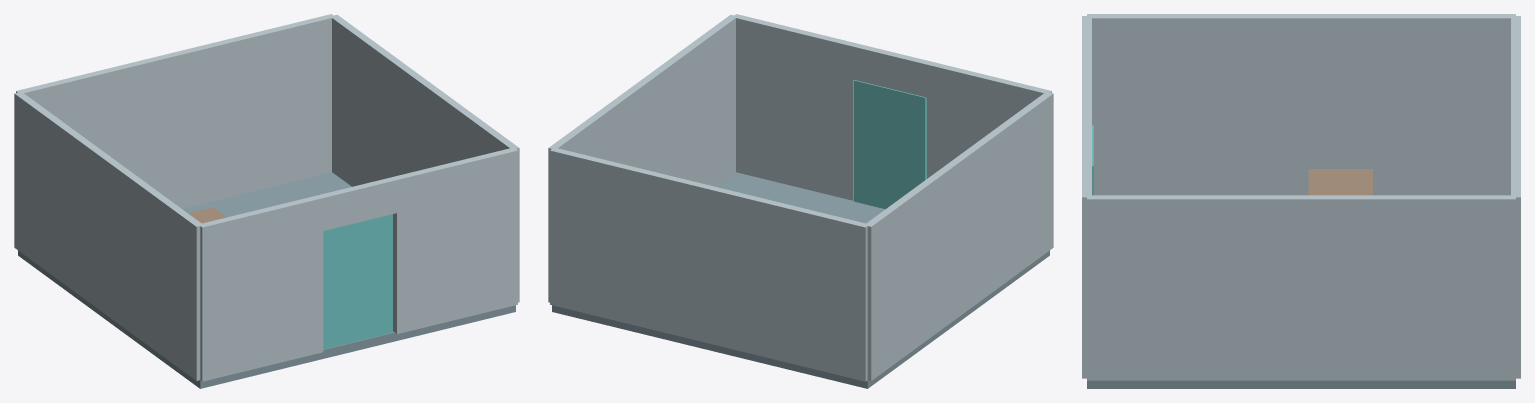
The model's file is pilot-room.glb.
3 renders of one model, left to right at view 1: azimuth 30°, elevation 25°; view 2: azimuth 150°, elevation 25°; view 3: azimuth 270°, elevation 25°, orthographic. The views are drawn at different scales.
Parts seen in each view (by area): view 1: pilot.wall.back, pilot.wall.left, pilot.wall.front.right, pilot.wall.front.left, pilot.wall.right, pilot.door.panel, pilot.floor, pilot.door.lintel; view 2: pilot.wall.back, pilot.wall.left, pilot.wall.front.right, pilot.wall.right, pilot.door.panel, pilot.wall.front.left, pilot.floor, pilot.door.lintel; view 3: pilot.wall.right, pilot.wall.left, pilot.floor, pilot.wall.back, pilot.workbench.top, pilot.wall.front.right, pilot.wall.front.left, pilot.door.lintel.
Boxes of the visible parts, x1,y1,x2,y2 form: pilot.wall.back: [16, 14, 335, 208]; pilot.wall.left: [14, 92, 203, 380]; pilot.wall.front.right: [393, 147, 517, 333]; pilot.wall.front.left: [198, 195, 323, 381]; pilot.wall.right: [332, 14, 519, 302]; pilot.door.panel: [323, 214, 392, 349]; pilot.floor: [18, 172, 515, 388]; pilot.door.lintel: [319, 177, 397, 230]; pilot.wall.back: [550, 147, 869, 381]; pilot.wall.left: [866, 92, 1053, 380]; pilot.wall.front.right: [733, 14, 856, 200]; pilot.wall.right: [548, 14, 737, 302]; pilot.door.panel: [854, 80, 926, 209]; pilot.wall.front.left: [927, 61, 1051, 178]; pilot.floor: [552, 172, 1049, 388]; pilot.door.lintel: [853, 43, 930, 97]; pilot.wall.right: [1087, 195, 1515, 380]; pilot.wall.left: [1087, 14, 1515, 195]; pilot.floor: [1087, 380, 1515, 388]; pilot.wall.back: [1511, 16, 1520, 378]; pilot.workbench.top: [1308, 169, 1372, 195]; pilot.wall.front.right: [1082, 128, 1091, 378]; pilot.wall.front.left: [1082, 16, 1091, 85]; pilot.door.lintel: [1082, 85, 1091, 127].
Size of the model in its own units: 6.14 by 2.96 by 6.14.
